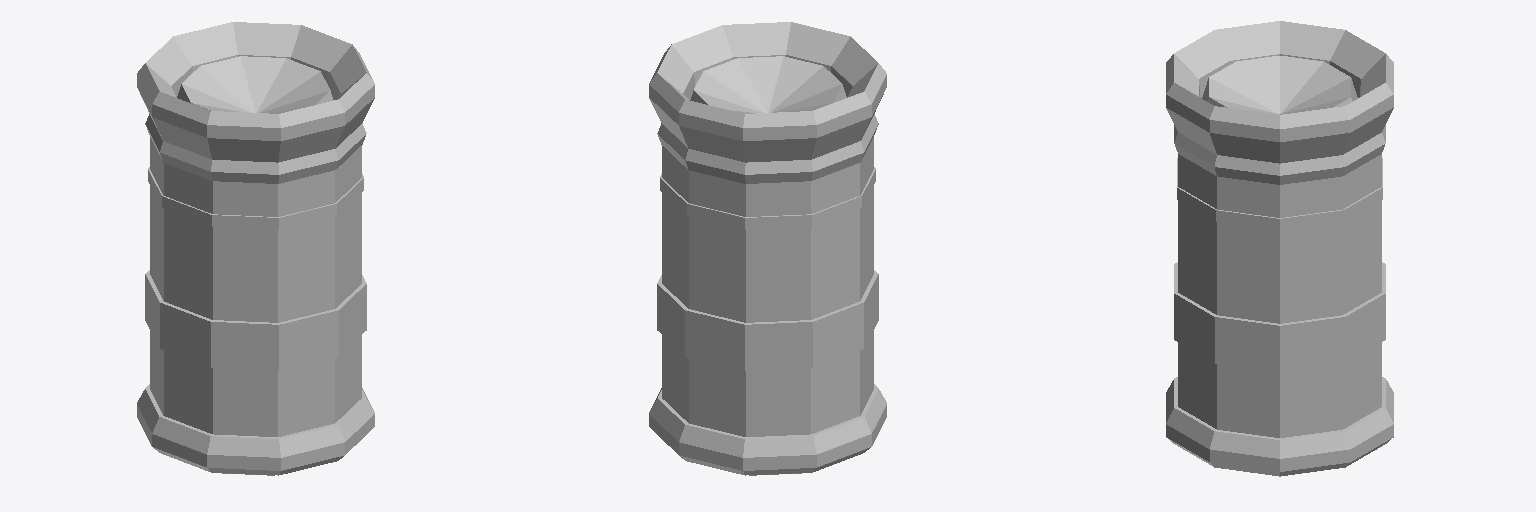
The model's file is Stalkercannister.obj.
The picture shows the model from 3 angles: view 1: azimuth 30°, elevation 25°; view 2: azimuth 150°, elevation 25°; view 3: azimuth 270°, elevation 25°; orthographic projection.
Visible parts, largest first — view 1: SandCan_Low; view 2: SandCan_Low; view 3: SandCan_Low.
Part boxes in pixels (left/top/right/bottom): SandCan_Low: left=137, top=22, right=374, bottom=475; SandCan_Low: left=649, top=22, right=886, bottom=475; SandCan_Low: left=1166, top=21, right=1393, bottom=476.
Size of the model in its own units: 40.65 by 70.35 by 38.66.